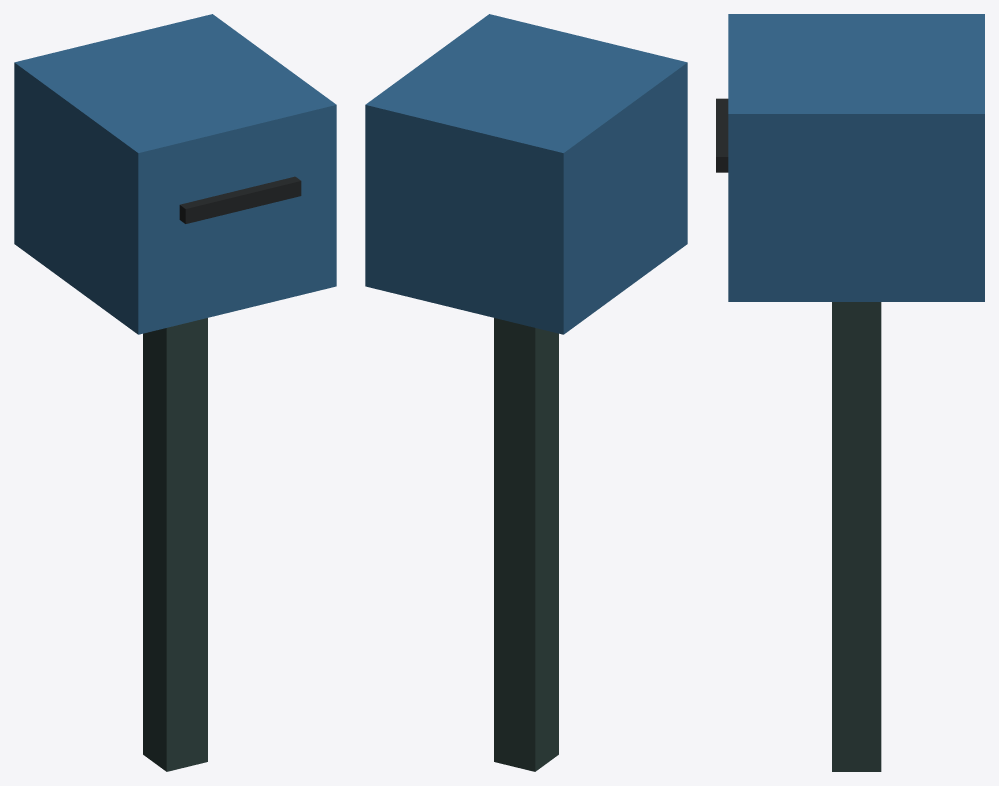
The model's file is Mailbox.obj.
The picture shows the model from 3 angles, left to right: view 1: azimuth 30°, elevation 25°; view 2: azimuth 150°, elevation 25°; view 3: azimuth 270°, elevation 25°; orthographic projection. The views are drawn at different scales.
Visible parts, largest first — view 1: Mailbox; view 2: Mailbox; view 3: Mailbox.
Boxes of the visible parts, x1=… form: Mailbox: x1=14, y1=14, x2=336, y2=771; Mailbox: x1=365, y1=14, x2=687, y2=771; Mailbox: x1=716, y1=14, x2=984, y2=771.
Size of the model in its own units: 0.48 by 1.56 by 0.545.
